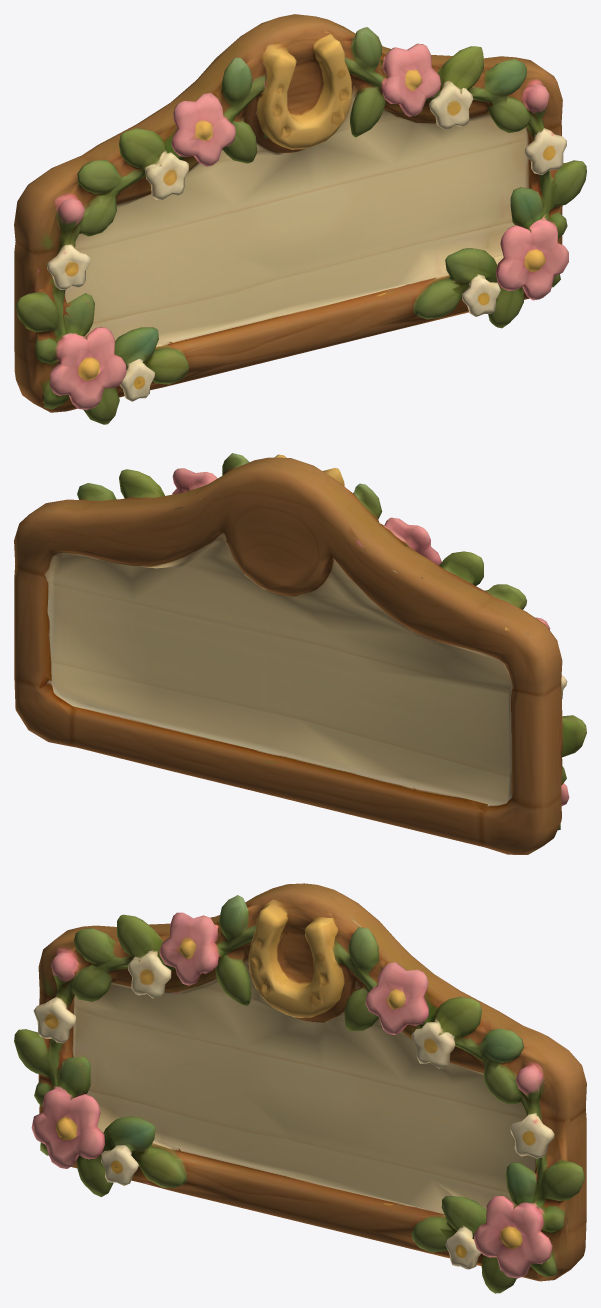
3 views of the same model, one above another, from view 1: azimuth 30°, elevation 25°; view 2: azimuth 150°, elevation 25°; view 3: azimuth 330°, elevation 25° (orthographic).
Visible parts, largest first — view 1: plate-flower; view 2: plate-flower; view 3: plate-flower.
Boxes of the visible parts, x1,y1,x2,y2 form: plate-flower: (14,14,586,424); plate-flower: (14,453,586,854); plate-flower: (14,883,586,1293).
Size of the model in its own units: 1.2 by 0.6937 by 0.1504.
1 material, 1 textured.
